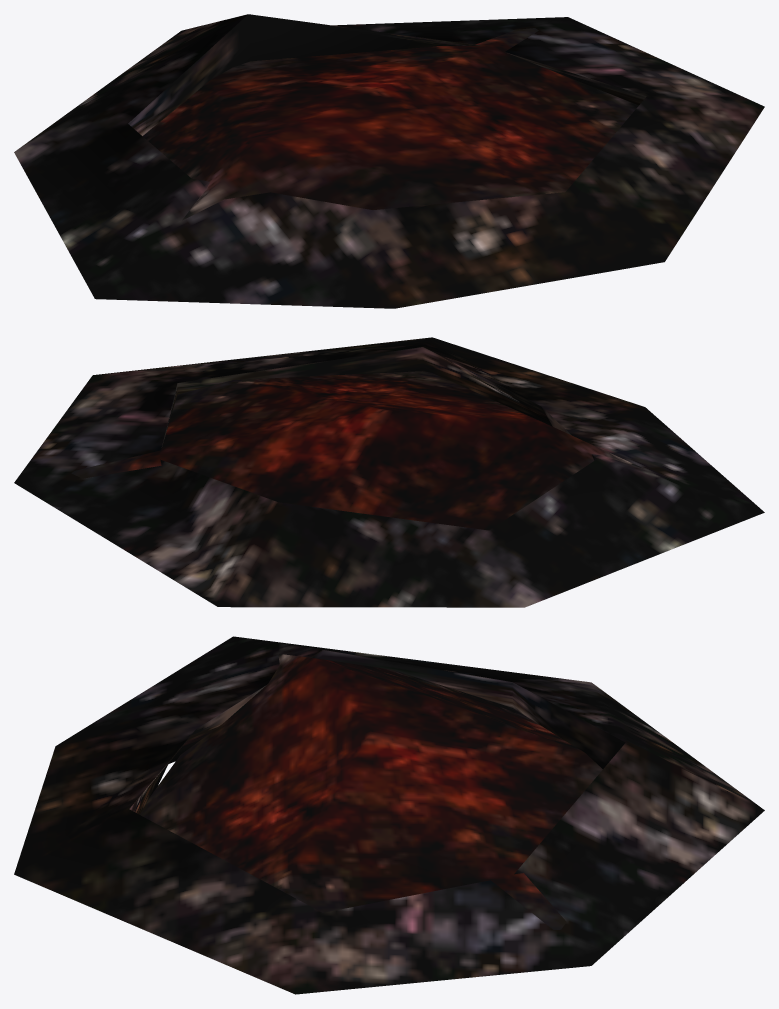
The model's file is Cmpfire2.glb.
The picture shows the model from 3 angles, top to bottom: view 1: azimuth 30°, elevation 25°; view 2: azimuth 150°, elevation 25°; view 3: azimuth 270°, elevation 25°; orthographic projection. The views are drawn at different scales.
Visible parts, largest first — view 1: _Cmpfire2; view 2: _Cmpfire2; view 3: _Cmpfire2.
Boxes of the visible parts, x1,y1,x2,y2 form: _Cmpfire2: (14,14,764,308); _Cmpfire2: (14,337,764,607); _Cmpfire2: (14,636,764,994).
Size of the model in its own units: 3.7 by 0.3904 by 3.28.
Materials: 2 (2 with a texture image).
